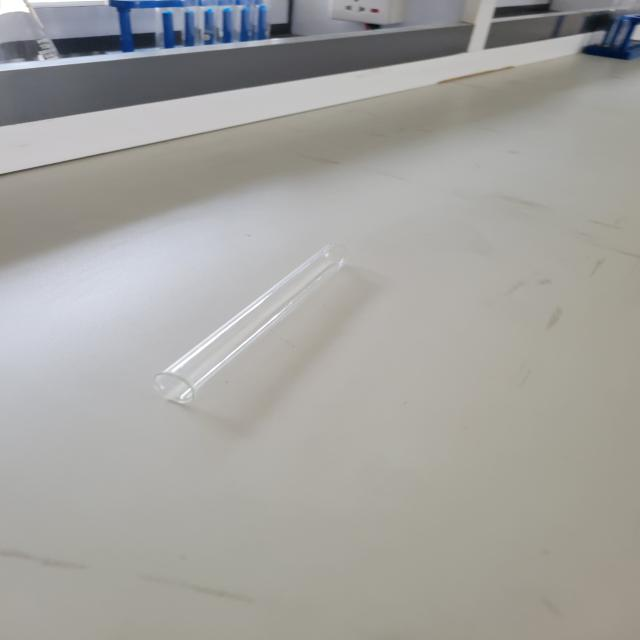Test_Tube: (70, 192, 379, 428)
